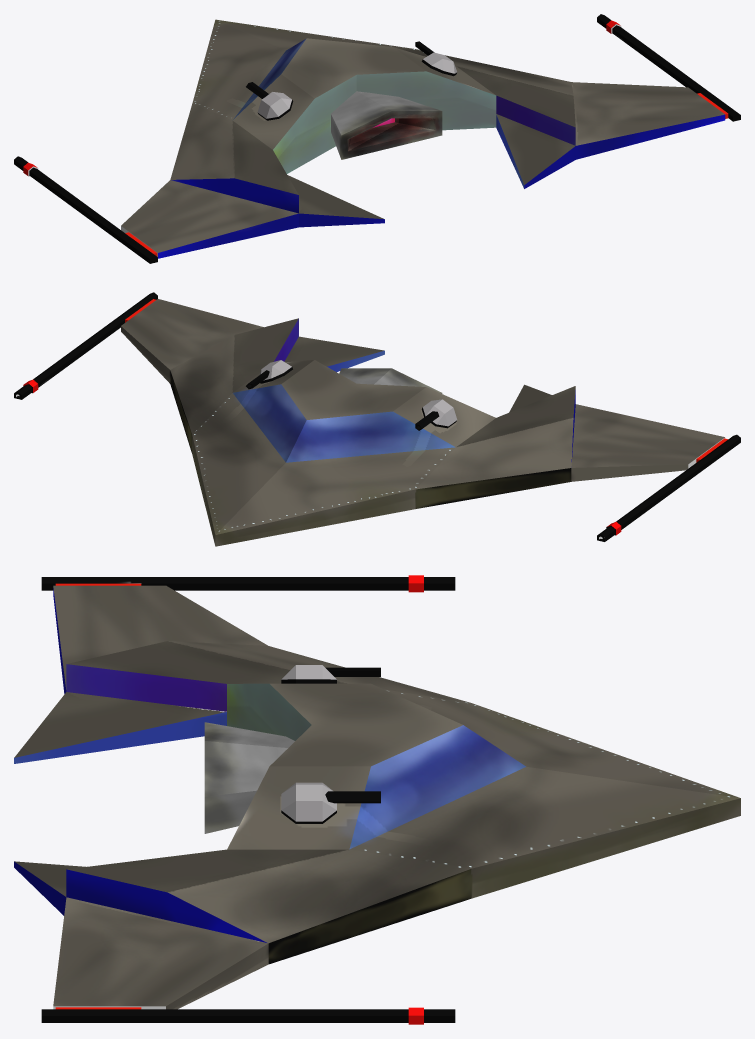
The model's file is ship4.fbx.
3 renders of one model, top to bottom at view 1: azimuth 30°, elevation 25°; view 2: azimuth 150°, elevation 25°; view 3: azimuth 270°, elevation 25°, orthographic. The views are drawn at different scales.
Visible parts, largest first — view 1: ship; view 2: ship; view 3: ship.
Boxes of the visible parts, x1,y1,x2,y2 form: ship: (14, 14, 740, 263); ship: (14, 292, 740, 546); ship: (14, 575, 740, 1024).
Bounding box in the file's own units: 393 × 37.93 × 275.
